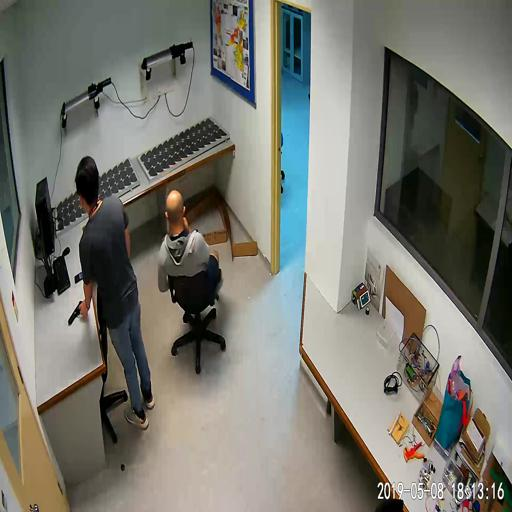pistol: (64, 299, 92, 327)
